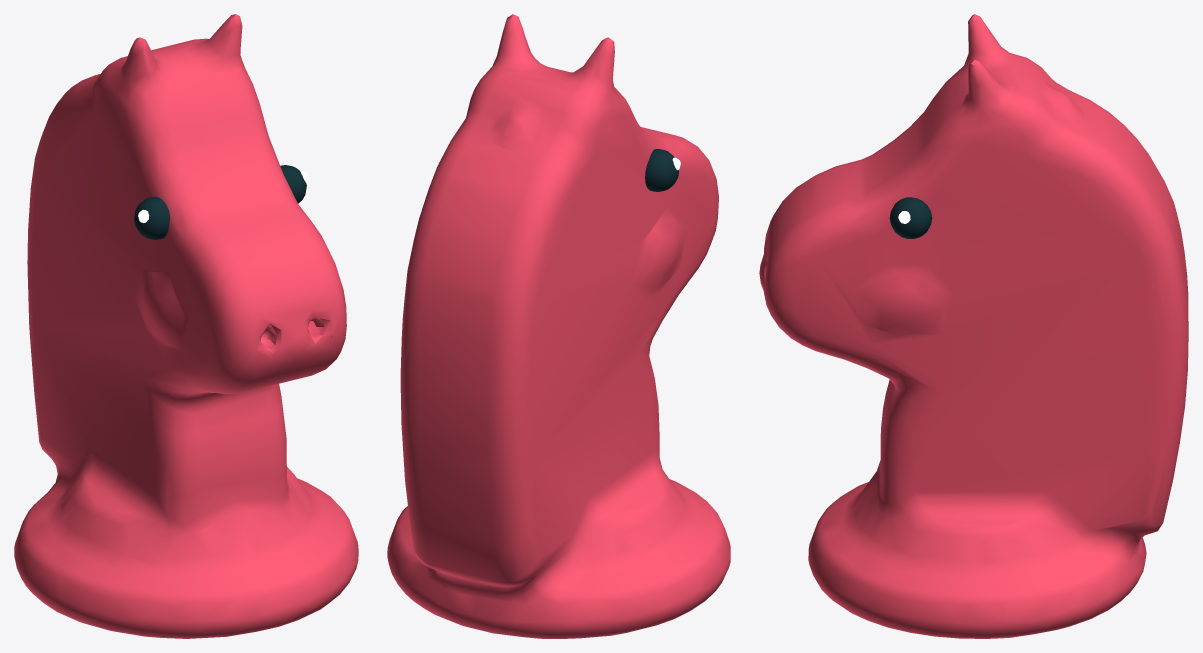
File: knight-low.glb
3 views of the same model, side by side, from view 1: azimuth 30°, elevation 25°; view 2: azimuth 150°, elevation 25°; view 3: azimuth 270°, elevation 25° (orthographic). The views are drawn at different scales.
Visible parts, largest first — view 1: knight-low; view 2: knight-low; view 3: knight-low.
Part boxes in pixels (<box>): knight-low: <box>14,14,358,638</box>; knight-low: <box>387,14,730,638</box>; knight-low: <box>759,14,1188,638</box>.
Size of the model in its own units: 0.7141 by 1.25 by 0.9055.
